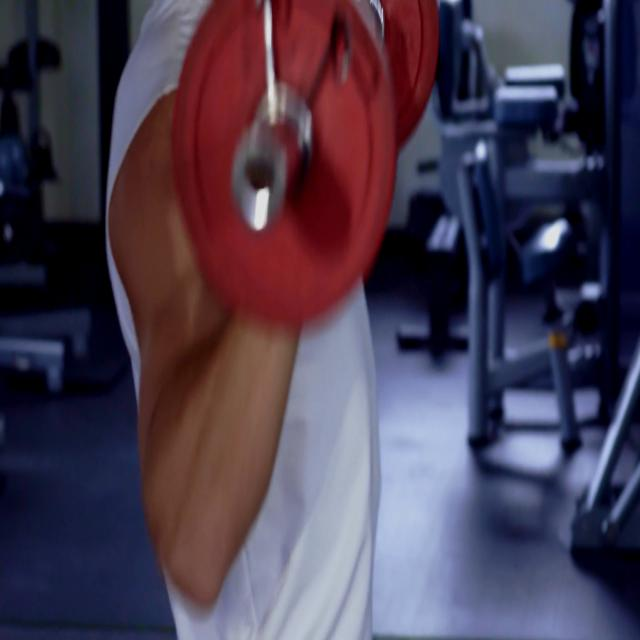barbell_plate_side: (171, 0, 238, 323), (373, 0, 440, 323)
